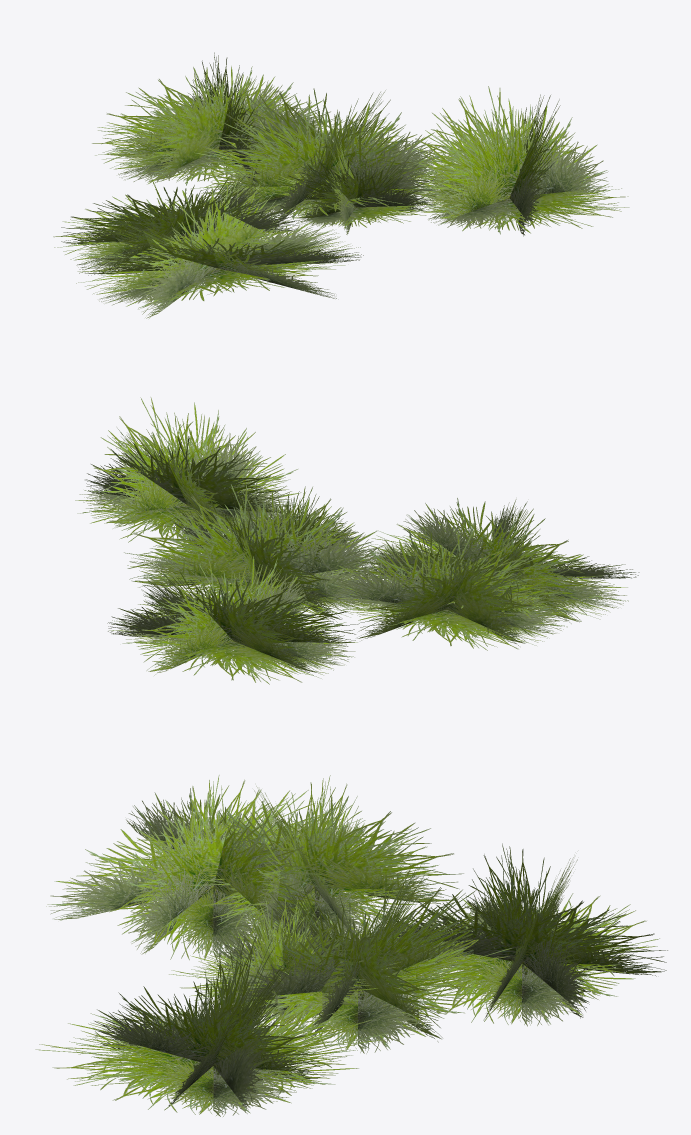
The model's file is Grass Patch Small.fbx.
3 views of the same model, one above another, from view 1: azimuth 30°, elevation 25°; view 2: azimuth 150°, elevation 25°; view 3: azimuth 270°, elevation 25° (orthographic). The views are drawn at different scales.
Parts seen in each view (by area): view 1: Small_Grass_Patch; view 2: Small_Grass_Patch; view 3: Small_Grass_Patch.
Part boxes in pixels (left/top/right/bottom): Small_Grass_Patch: left=53, top=52, right=629, bottom=318; Small_Grass_Patch: left=75, top=397, right=639, bottom=684; Small_Grass_Patch: left=35, top=775, right=667, bottom=1116.
Size of the model in its own units: 88.8 by 16.34 by 76.42.
